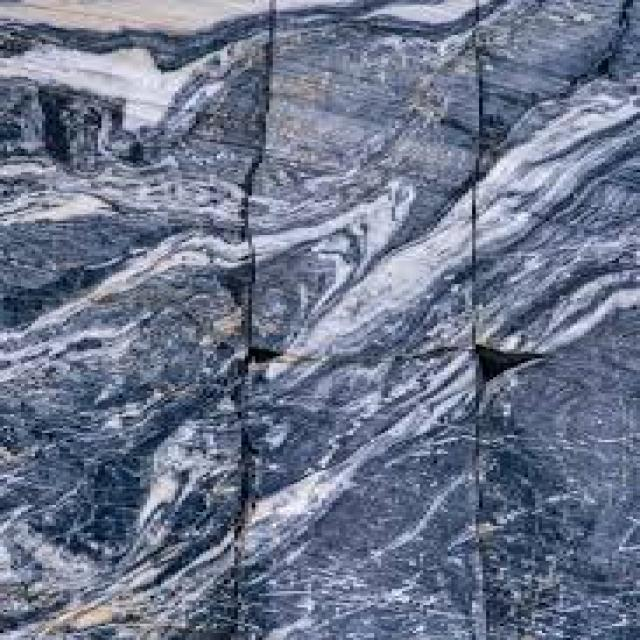Metamorphic: (4, 2, 626, 636)
